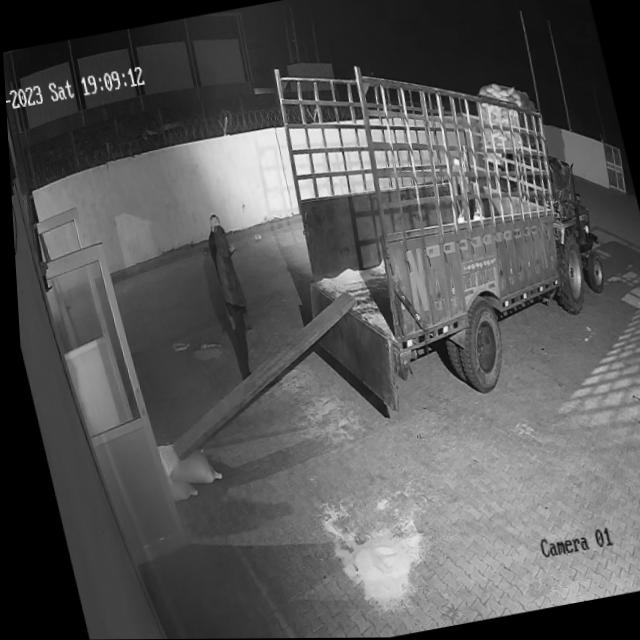sack: (150, 433, 217, 491)
